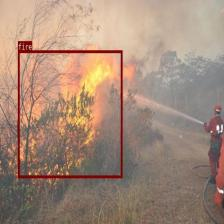fire: (18, 50, 122, 177)
